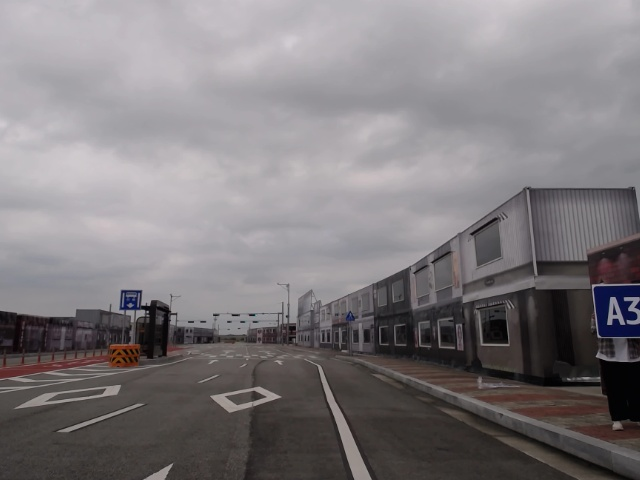delivery_a3: (592, 284, 639, 338)
